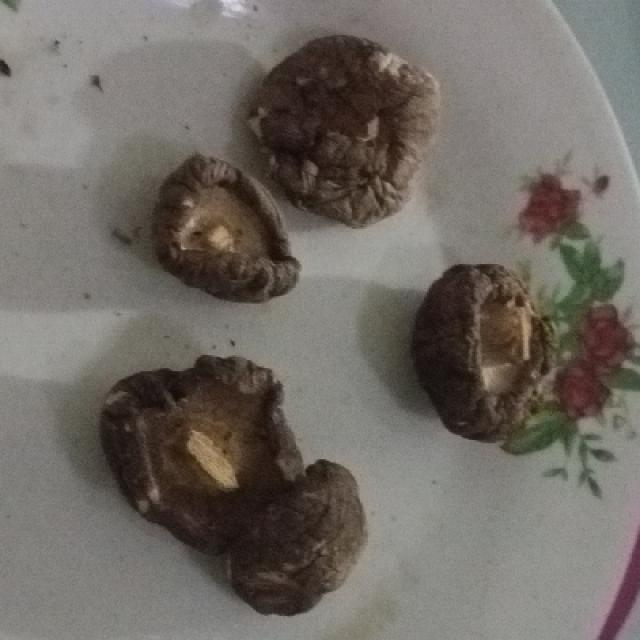Lentinus edodes: (108, 354, 364, 607), (228, 29, 440, 220), (428, 261, 554, 443), (153, 153, 300, 298)
